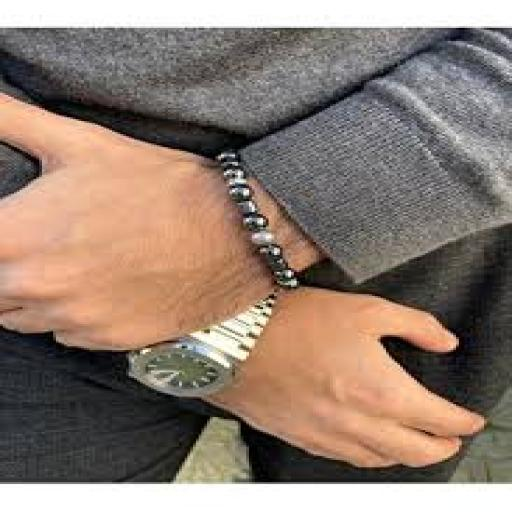KolSaati: (112, 270, 289, 402)
